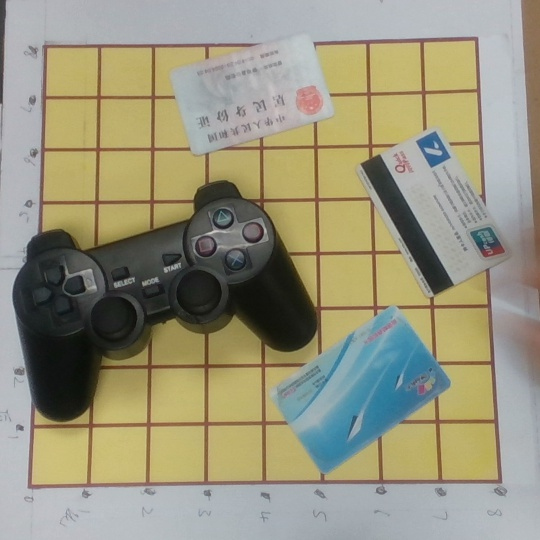card: (271, 304, 451, 474), (356, 126, 510, 299), (169, 32, 336, 155)
remote: (13, 180, 315, 423)
